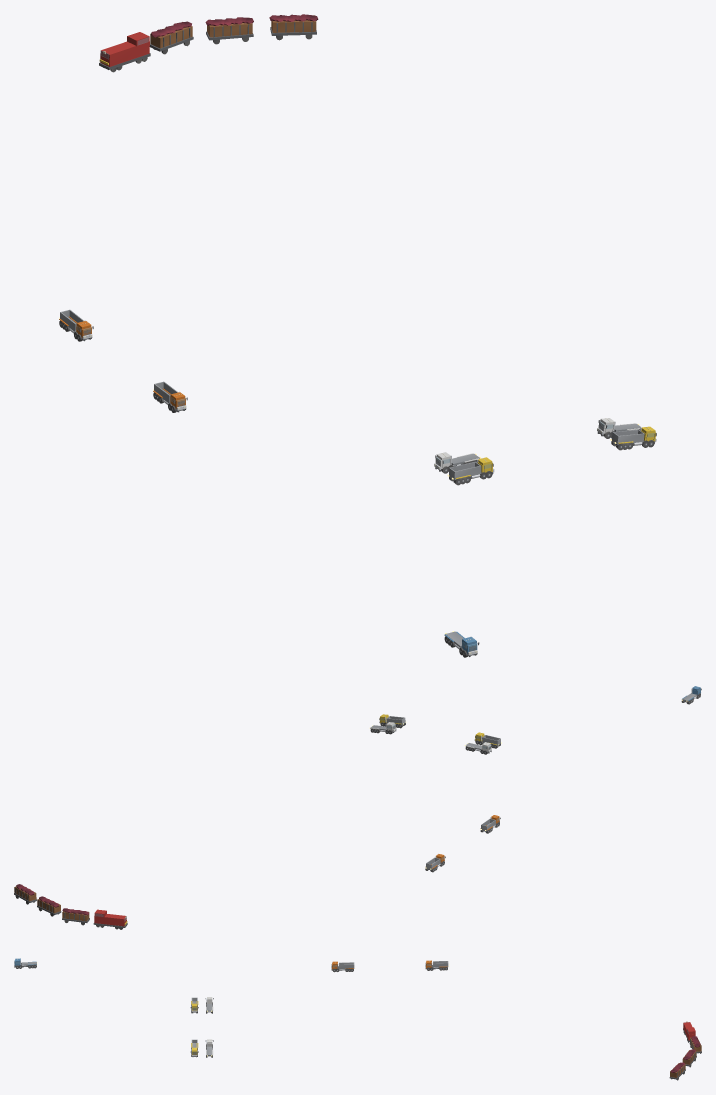
File: Vehicles_P1.fbx
The picture shows the model from 3 angles, top to bottom: view 1: azimuth 30°, elevation 25°; view 2: azimuth 150°, elevation 25°; view 3: azimuth 270°, elevation 25°; orthographic projection. The views are drawn at different scales.
Parts seen in each view (by area): view 1: train, wagon.001, wagon.002; view 2: train; view 3: truck_road_ore1, truck_road_ore0.
Part boxes in pixels (x1,y1,x2,y2): train: (99, 32, 150, 72); wagon.001: (205, 17, 253, 44); wagon.002: (269, 14, 318, 40); train: (93, 909, 127, 929); truck_road_ore1: (331, 961, 355, 972); truck_road_ore0: (425, 960, 449, 970).
Size of the model in its own units: 10304 by 936 by 23997.
